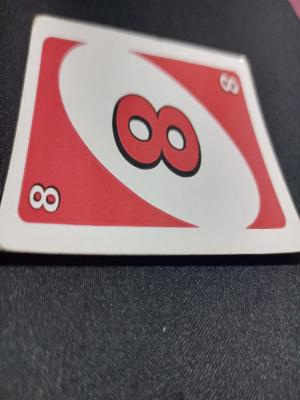num_8: (107, 81, 204, 185)
